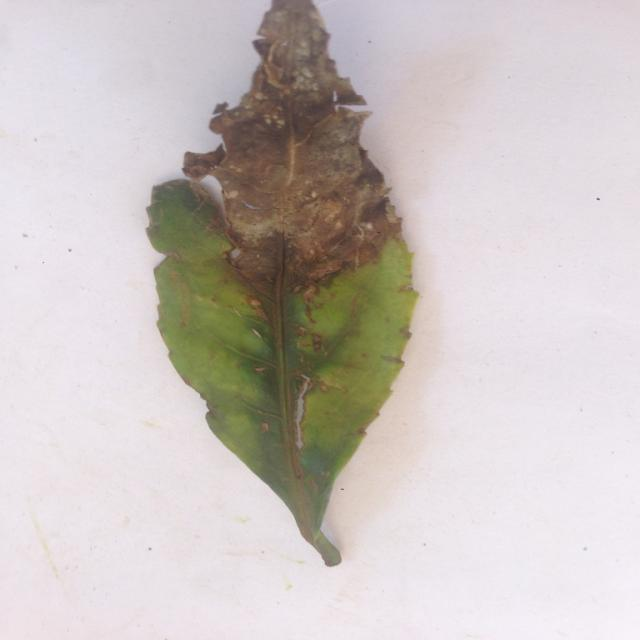Brown Blight: (128, 0, 424, 604)
